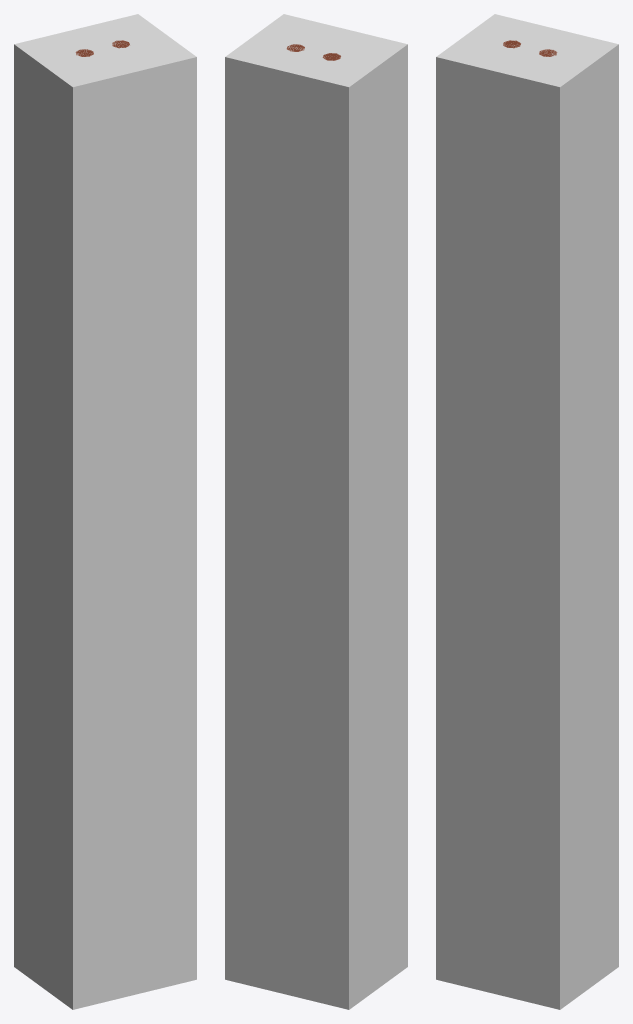
The model's file is house_chimney.glb.
3 views of the same model, side by side, from view 1: azimuth 30°, elevation 25°; view 2: azimuth 150°, elevation 25°; view 3: azimuth 330°, elevation 25° (orthographic).
Parts seen in each view (by area): view 1: COL_house_chimney_static_00; view 2: COL_house_chimney_static_00; view 3: COL_house_chimney_static_00.
Part boxes in pixels (<box>): COL_house_chimney_static_00: <box>14,14,196,1009</box>; COL_house_chimney_static_00: <box>225,14,407,1009</box>; COL_house_chimney_static_00: <box>436,14,618,1009</box>.
Bounding box in the file's own units: 0.9366 × 6.66 × 0.7681.
Materials: 2 (2 with a texture image).
